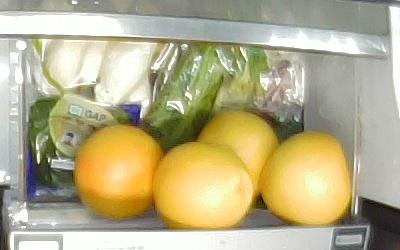grapefruit: (73, 125, 165, 221), (259, 132, 350, 225), (153, 143, 253, 227), (196, 111, 281, 195)
